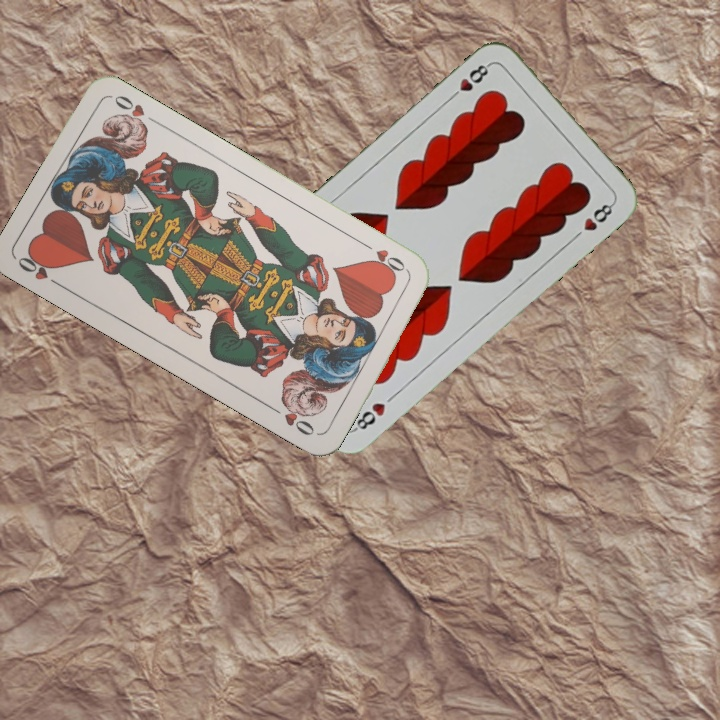H8: (445, 59, 494, 103), (349, 398, 388, 434)
HO: (13, 249, 67, 291), (359, 239, 412, 279)
